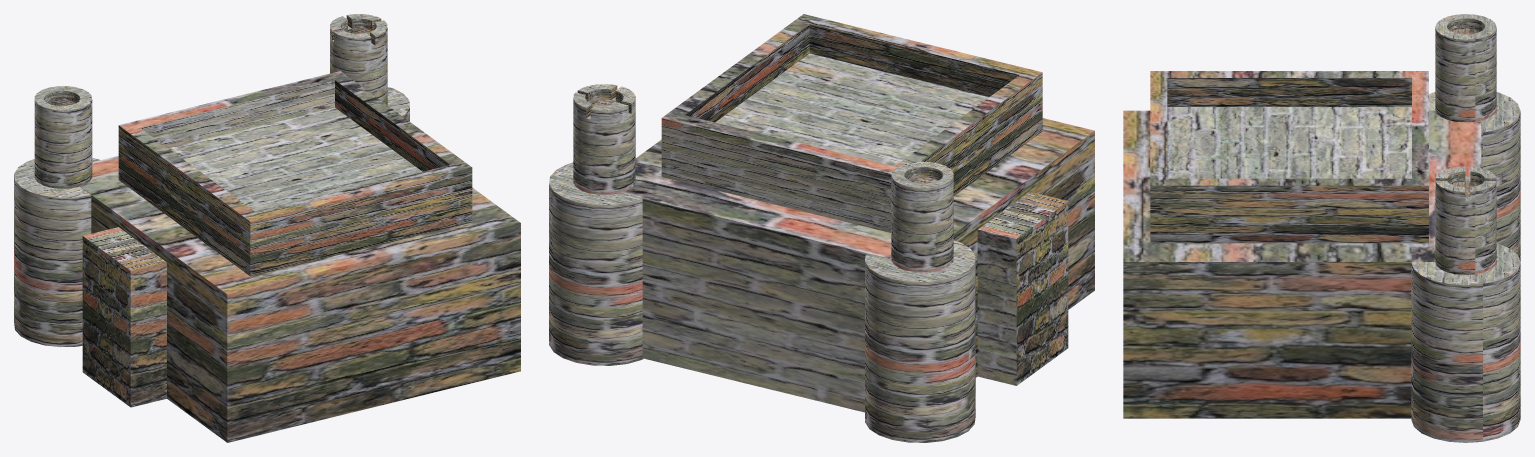
The model's file is Castle.obj.
3 views of the same model, side by side, from view 1: azimuth 30°, elevation 25°; view 2: azimuth 150°, elevation 25°; view 3: azimuth 270°, elevation 25° (orthographic). The views are drawn at different scales.
Visible parts, largest first — view 1: Castle; view 2: Castle; view 3: Castle.
Boxes of the visible parts, box(x1,y1,x2,y2) form: Castle: box(14, 14, 520, 442); Castle: box(549, 14, 1094, 442); Castle: box(1123, 14, 1520, 442).
Bounding box in the file's own units: 95.07 × 54.06 × 80.86.
1 material, 1 textured.
